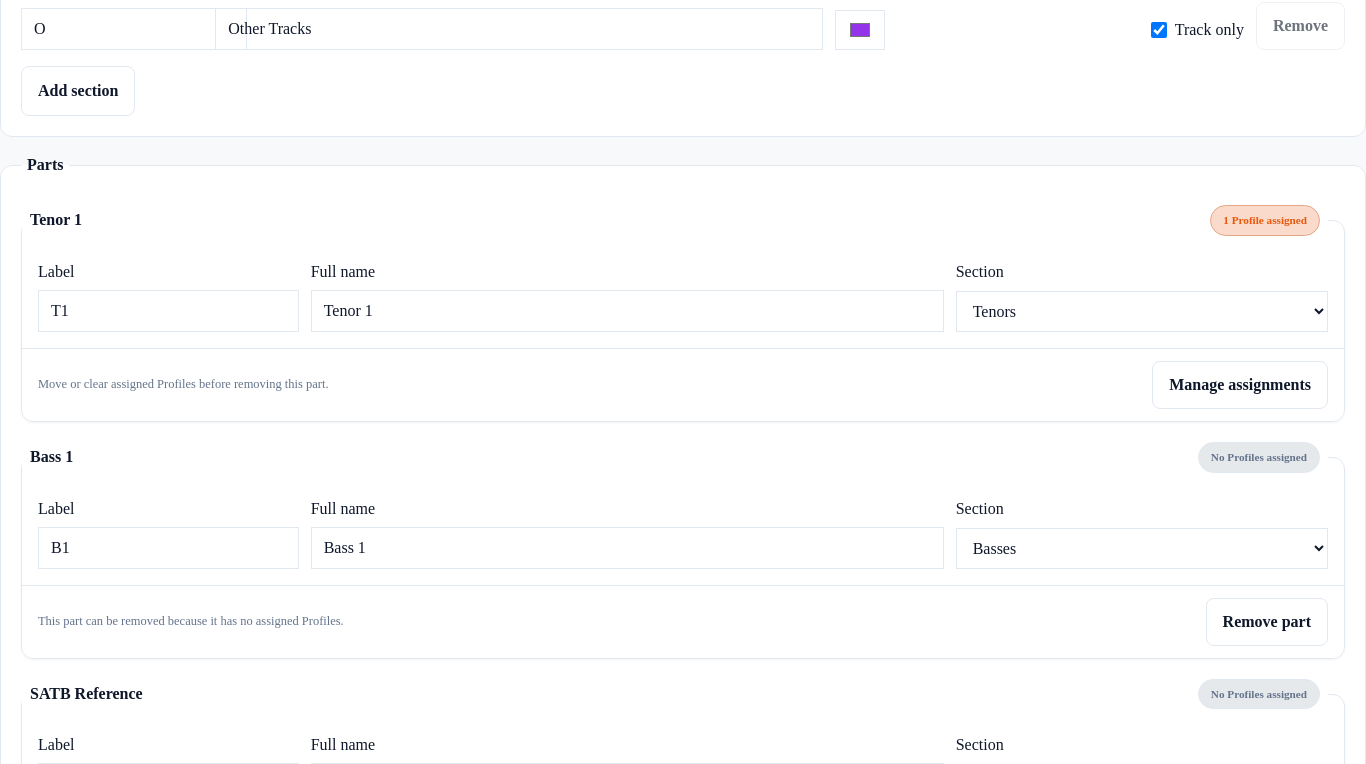
RosterConfiguration UI track-only behavior › excludes track-only voice parts from reassignment target dropdown
This screenshot has width=1366, height=764.
(page scrolled)
Click the button "Manage assignments": (1240, 385) [1152,361,1328,409]
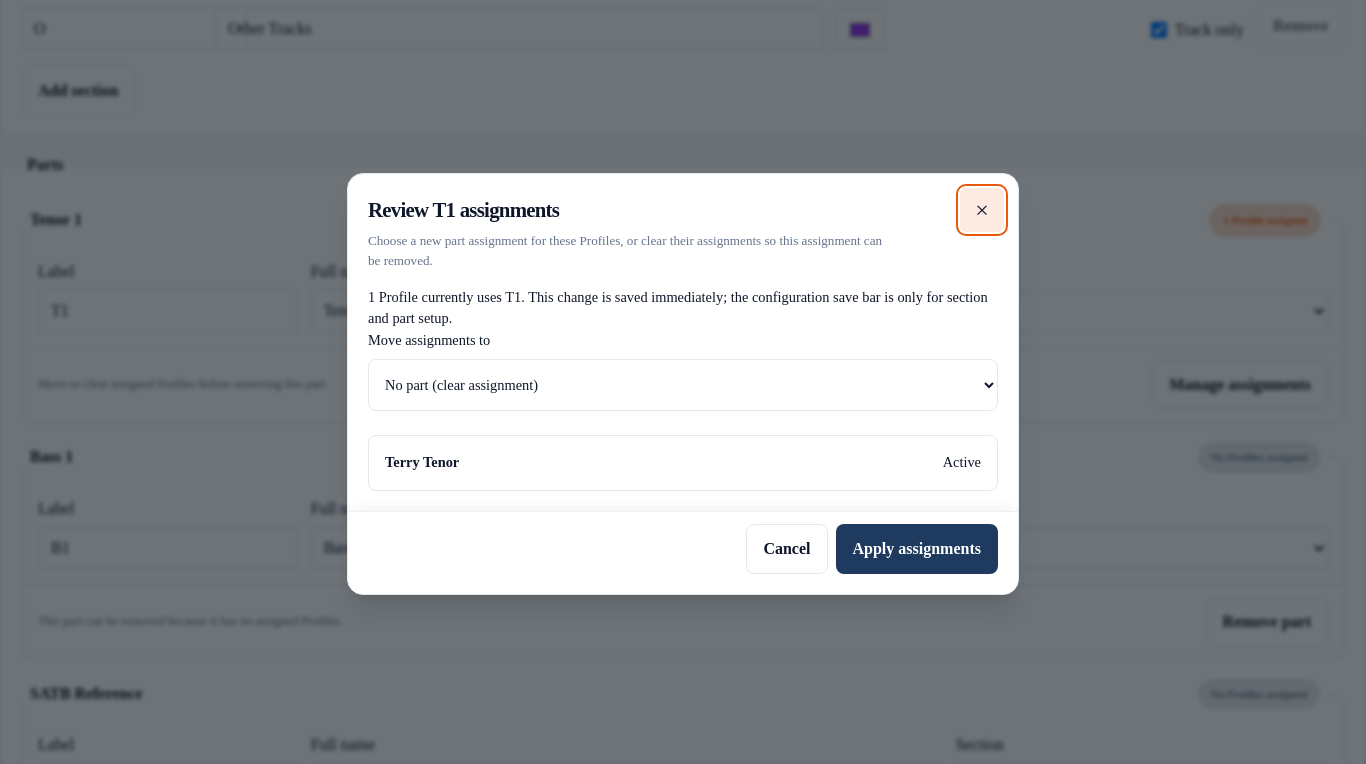
Expected: the dialog "Review T1 assignments" is shown, [347,173,1019,595]
